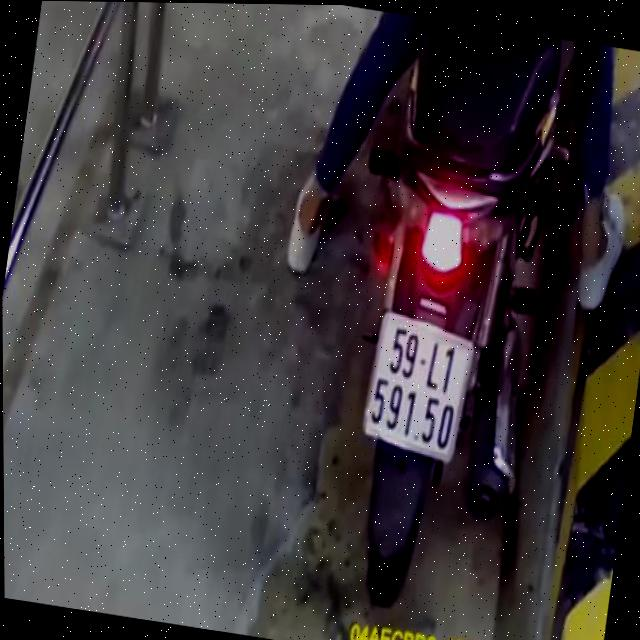motorcycle: (299, 10, 607, 640)
plate: (350, 303, 487, 471)
